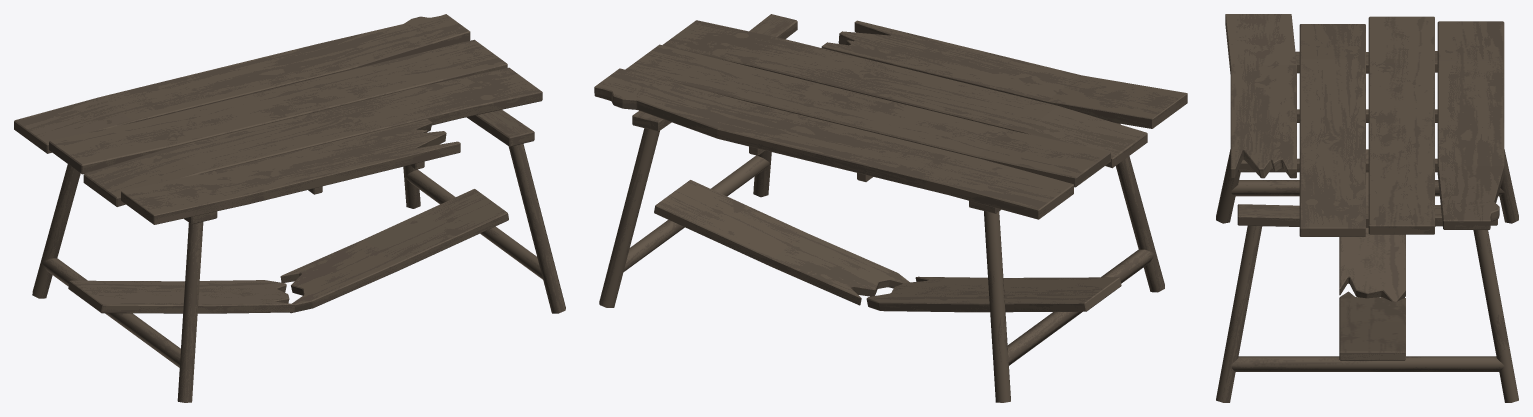
The model's file is Table.fbx.
The picture shows the model from 3 angles, left to right: view 1: azimuth 30°, elevation 25°; view 2: azimuth 150°, elevation 25°; view 3: azimuth 270°, elevation 25°; orthographic projection. The views are drawn at different scales.
Parts seen in each view (by area): view 1: pCube2; view 2: pCube2; view 3: pCube2.
Boxes of the visible parts, x1=… form: pCube2: x1=14, y1=14, x2=565, y2=402; pCube2: x1=594, y1=14, x2=1187, y2=402; pCube2: x1=1216, y1=14, x2=1518, y2=402.
Size of the model in its own units: 180 by 78.42 by 111.
